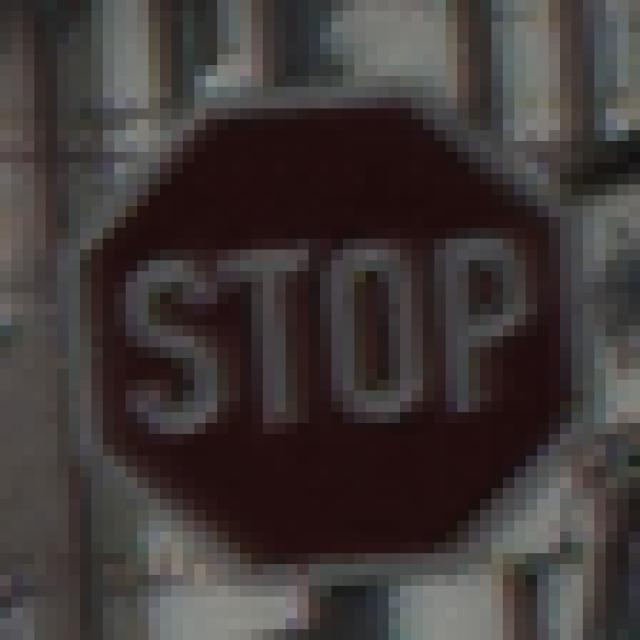STOP: (58, 66, 584, 587)
